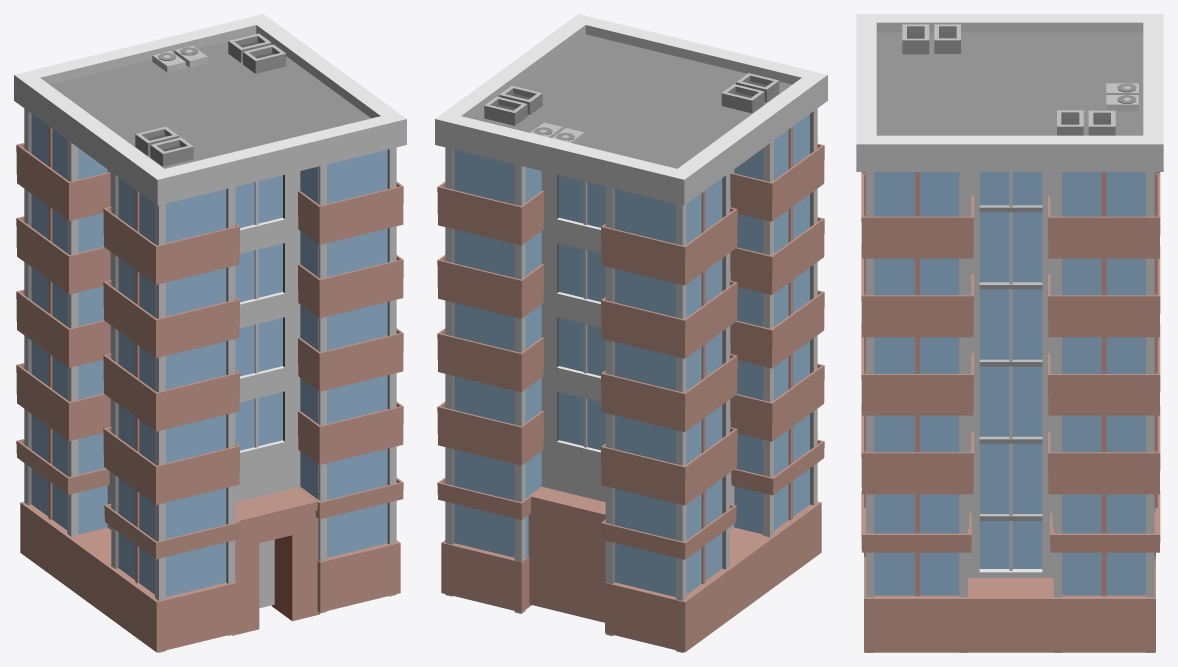
Rendered from house_middle_001.fbx.
The picture shows the model from 3 angles, left to right: view 1: azimuth 30°, elevation 25°; view 2: azimuth 150°, elevation 25°; view 3: azimuth 270°, elevation 25°; orthographic projection. The views are drawn at different scales.
Visible parts, largest first — view 1: house_middle_001; view 2: house_middle_001; view 3: house_middle_001.
Boxes of the visible parts, left/top/right/bottom form: house_middle_001: left=14, top=14, right=406, bottom=652; house_middle_001: left=435, top=14, right=827, bottom=652; house_middle_001: left=856, top=14, right=1163, bottom=652.
Size of the model in its own units: 723 by 1340 by 720.
